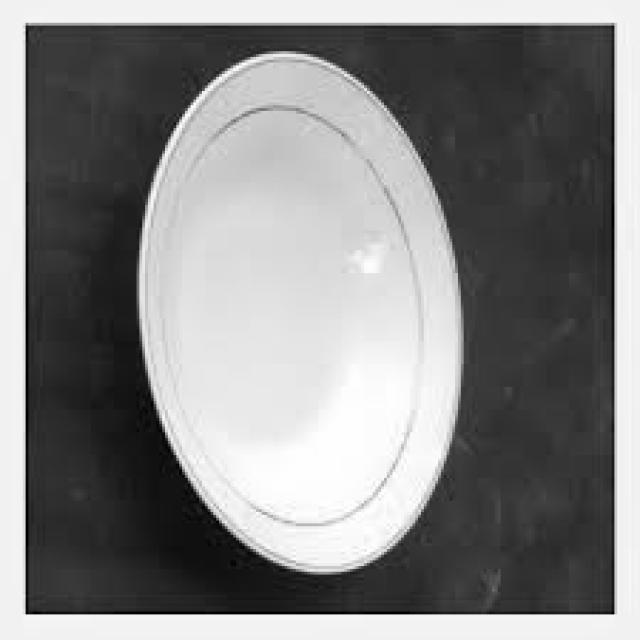dish: (109, 20, 497, 596)
